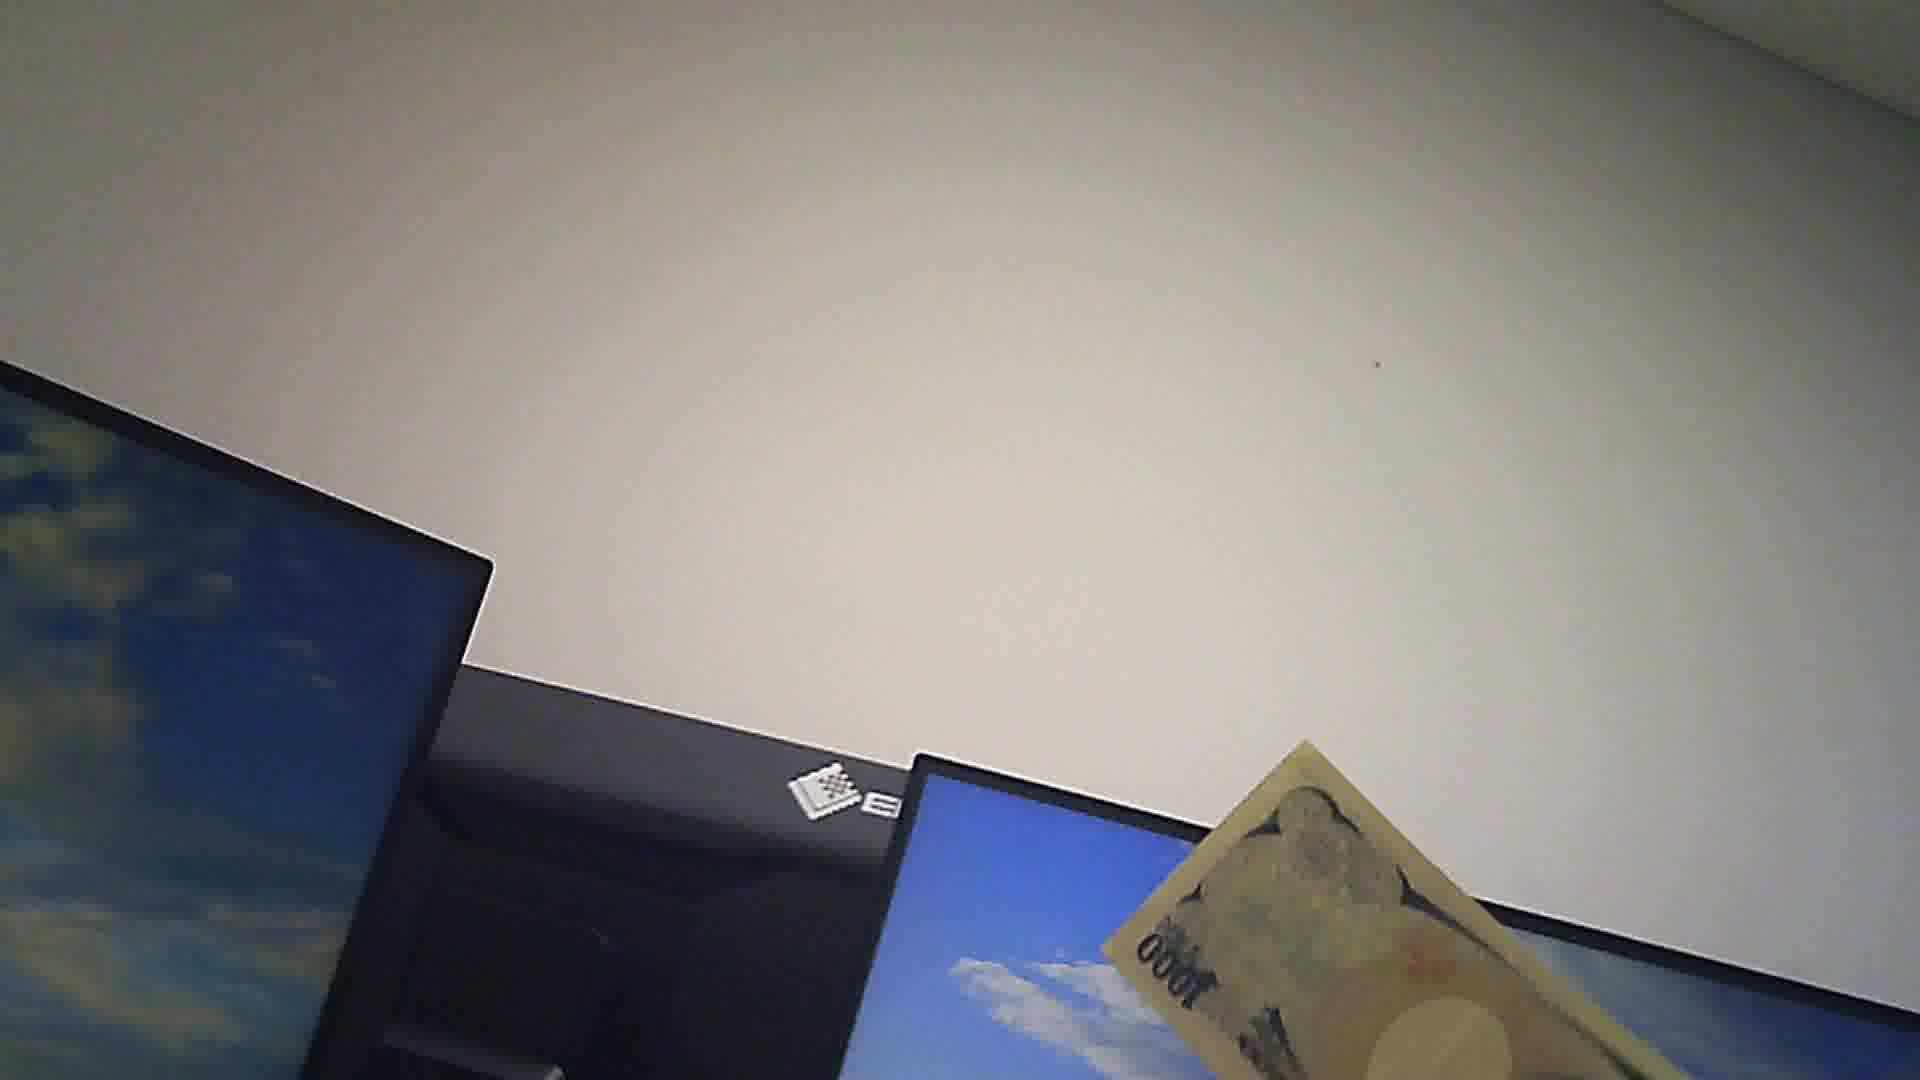1,000 Yen: (1109, 745, 1643, 1079)
